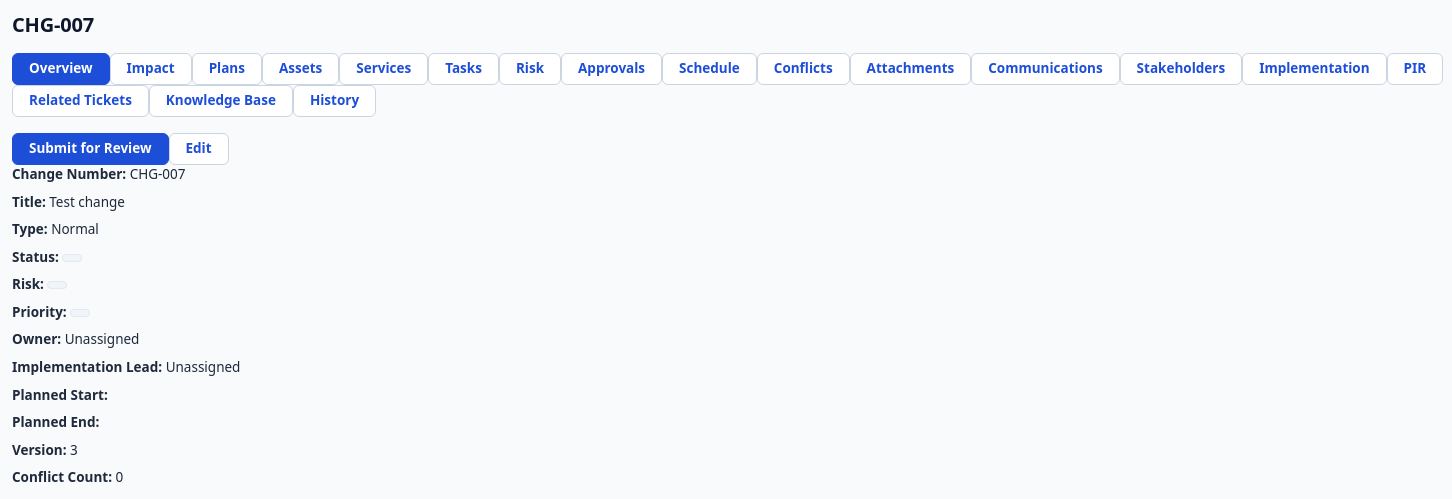
Scenario: ChangeDetail workflow actions › submits through the shared axios client and refreshes the detail object
The width and height of the screenshot is (1452, 499).
Expected: the heading "CHG-007" is shown, [12,12,94,37]
Click the button "Submit for Review": (90,149) [12,133,168,165]
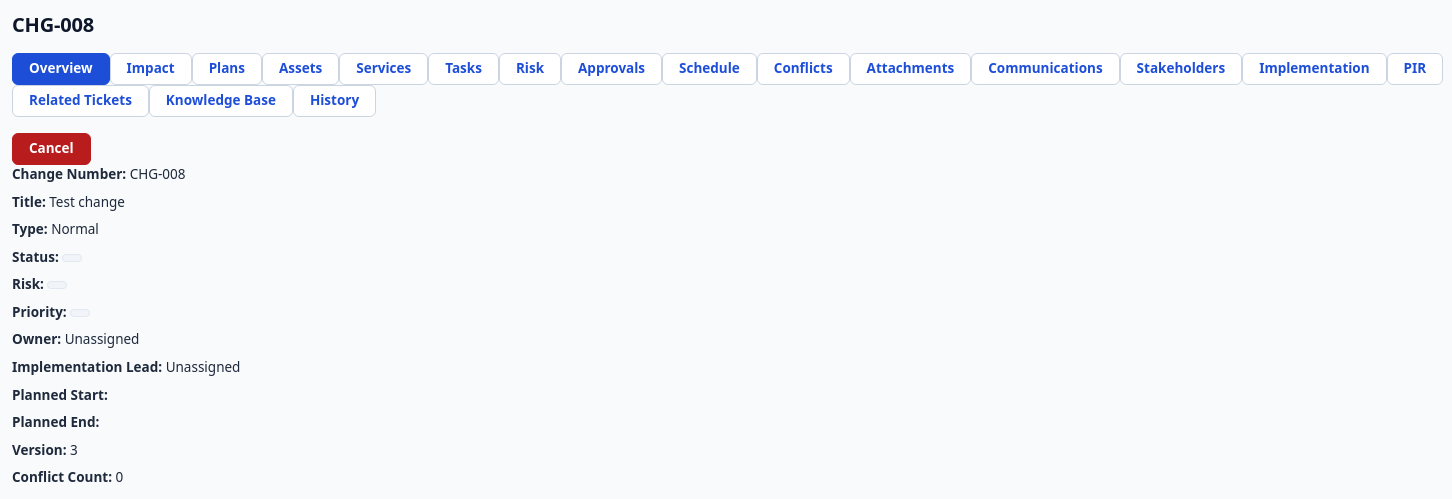
Expected: the heading "CHG-008" is shown, [12,12,94,37]
Expected: the heading "CHG-007" is gone
